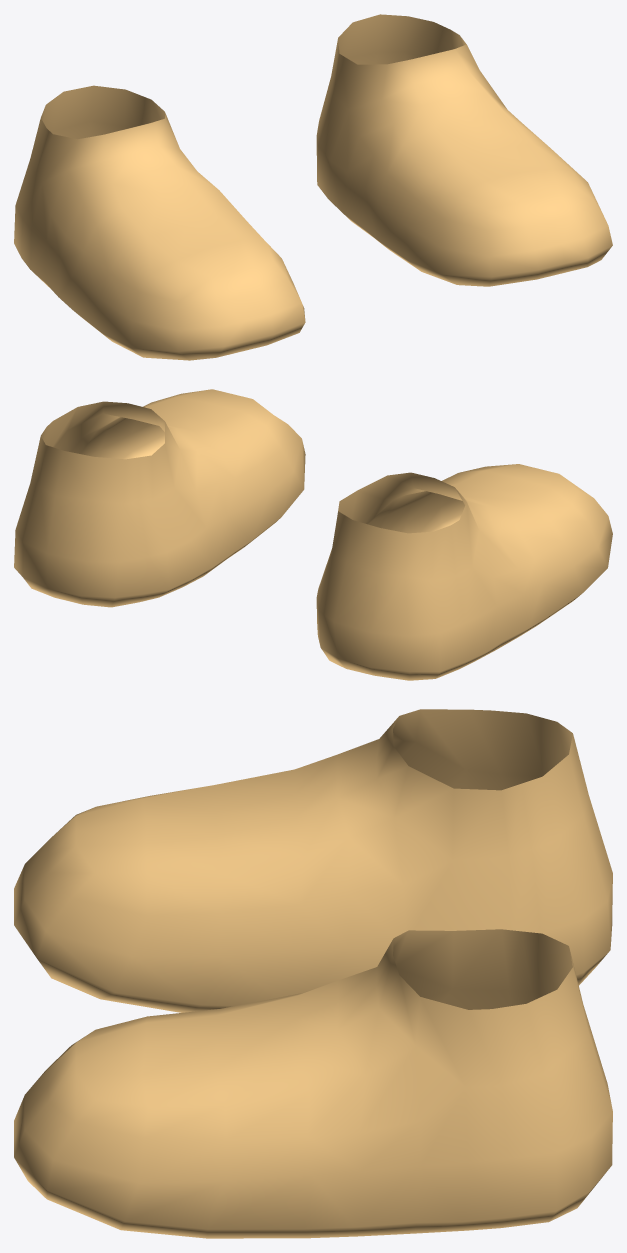
File: Shoes_01.fbx
3 views of the same model, one above another, from view 1: azimuth 30°, elevation 25°; view 2: azimuth 150°, elevation 25°; view 3: azimuth 270°, elevation 25° (orthographic). The views are drawn at different scales.
Visible parts, largest first — view 1: Shoes_01; view 2: Shoes_01; view 3: Shoes_01.
Part boxes in pixels (x1,y1,x2,y2): Shoes_01: (14, 14, 612, 360); Shoes_01: (14, 389, 612, 680); Shoes_01: (14, 709, 612, 1238).
Size of the model in its own units: 28.1 by 8.41 by 19.97.
